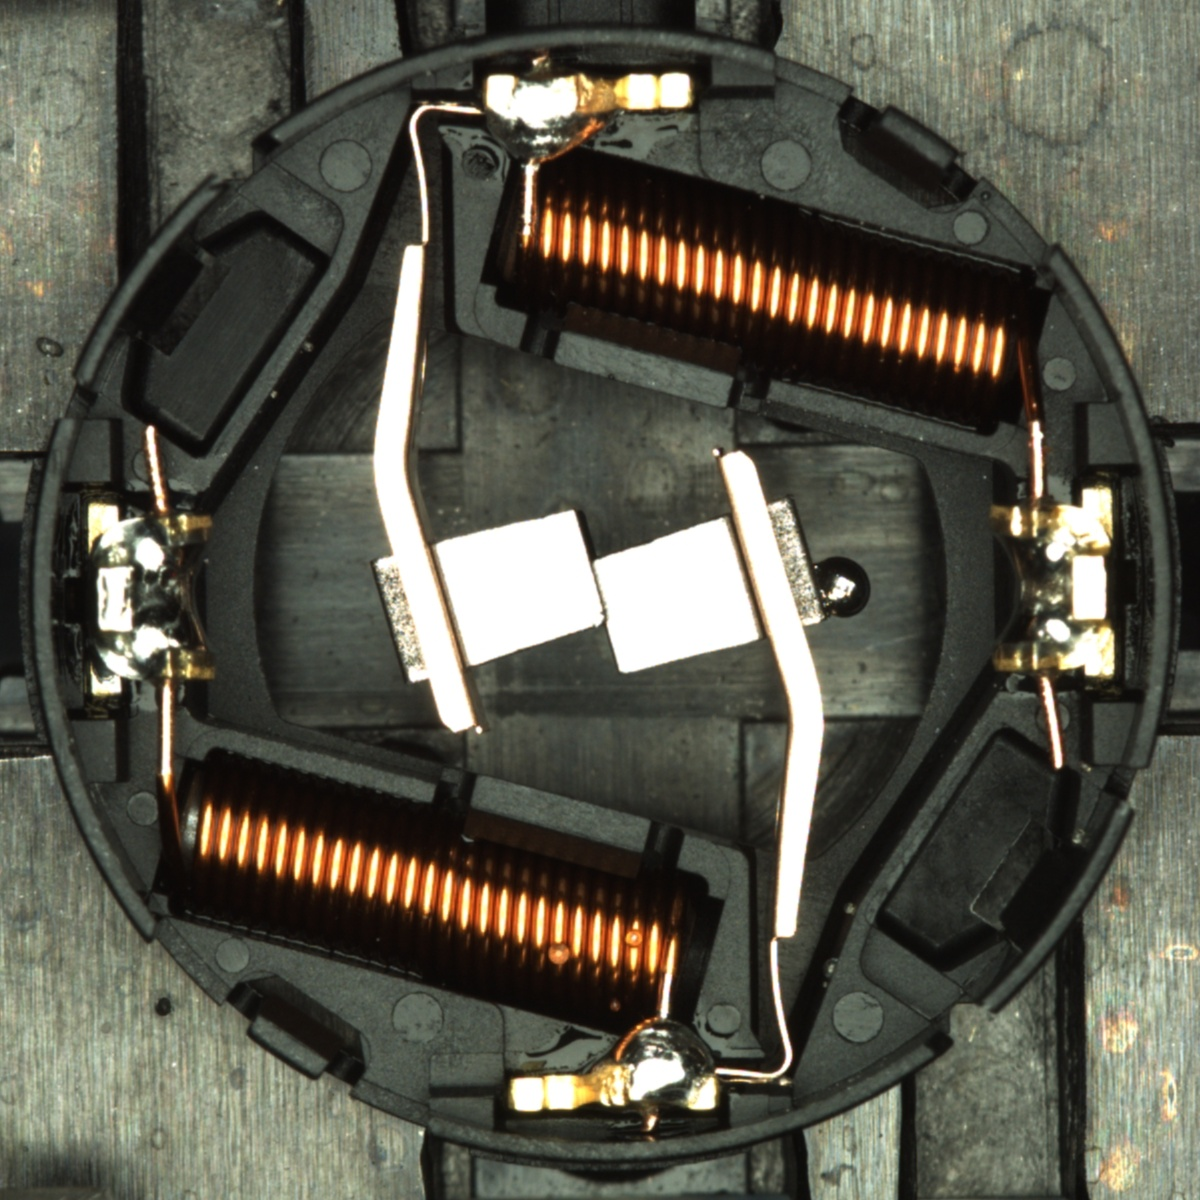1: (258, 55, 487, 279), (716, 953, 945, 1177)
2: (716, 55, 945, 279), (258, 953, 487, 1177)
3: (29, 279, 258, 503), (945, 729, 1175, 953)
4: (258, 279, 487, 503), (716, 729, 945, 953)
5: (487, 167, 716, 391), (487, 841, 716, 1065)
6: (716, 279, 945, 503), (258, 729, 487, 953)
7: (945, 279, 1175, 503), (29, 729, 258, 953)
chau_dien: (81, 496, 220, 698), (984, 486, 1122, 685)
hat_chi: (815, 555, 873, 620)
tay_choi: (508, 1015, 722, 1116), (481, 68, 698, 167)
thanh_de: (953, 785, 1141, 1031), (59, 164, 244, 404)
